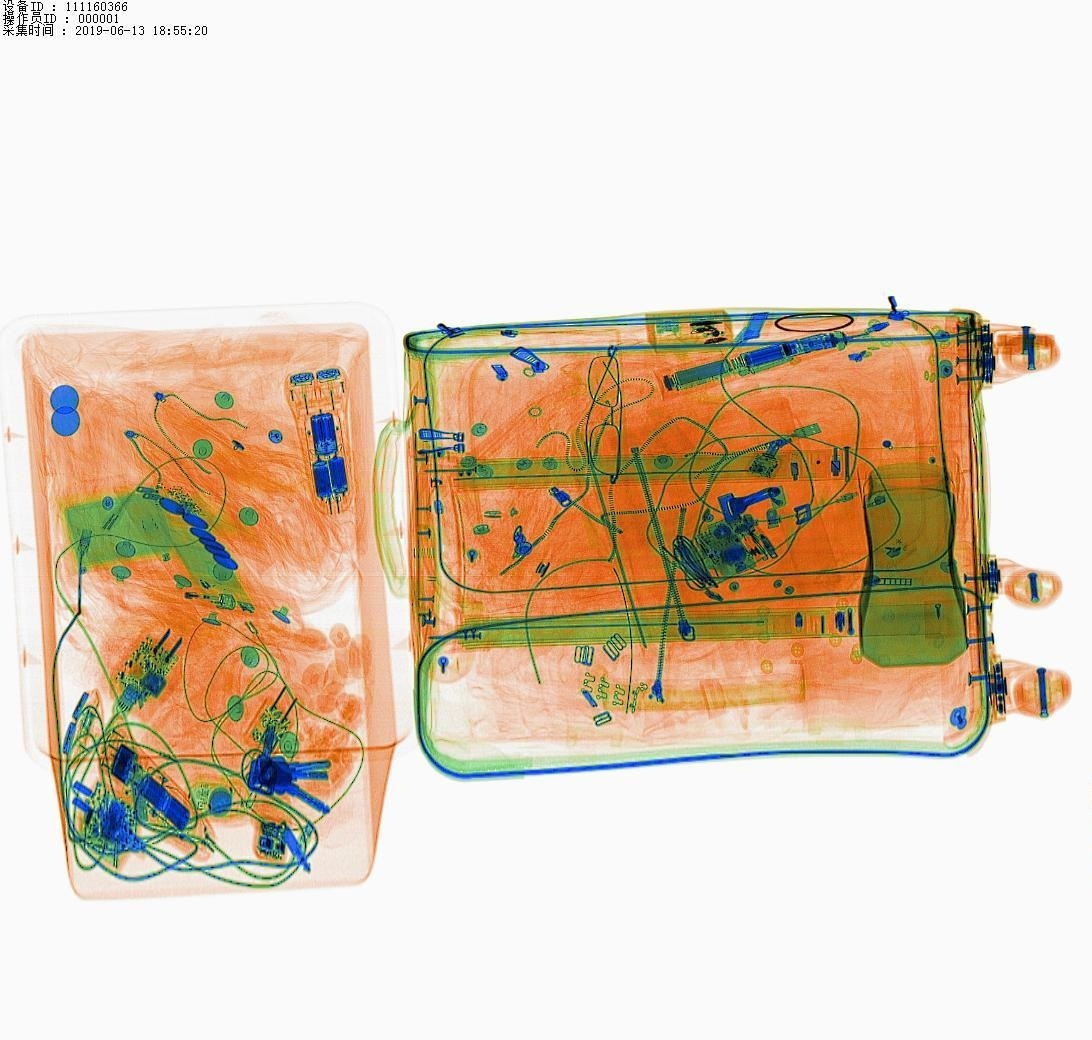NonmetallicFire: (145, 581, 238, 618)
